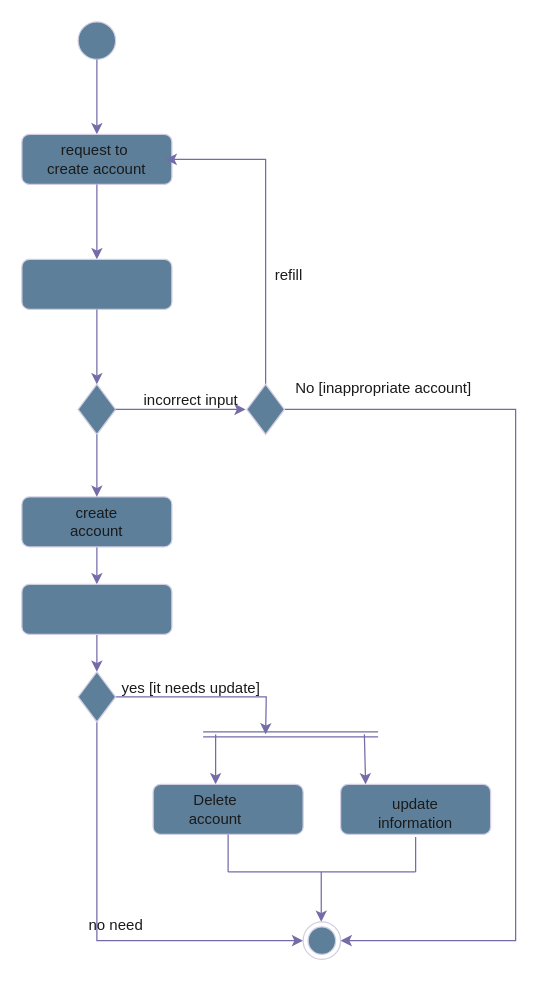
Some shapes in this 548 by 981 pixel diagram are drawn without their labels. Here are the shapes that lost their labels. From the top down, the centre of each, then its label:
At [96,283]: "validate user".
At [96,608]: "Update".
